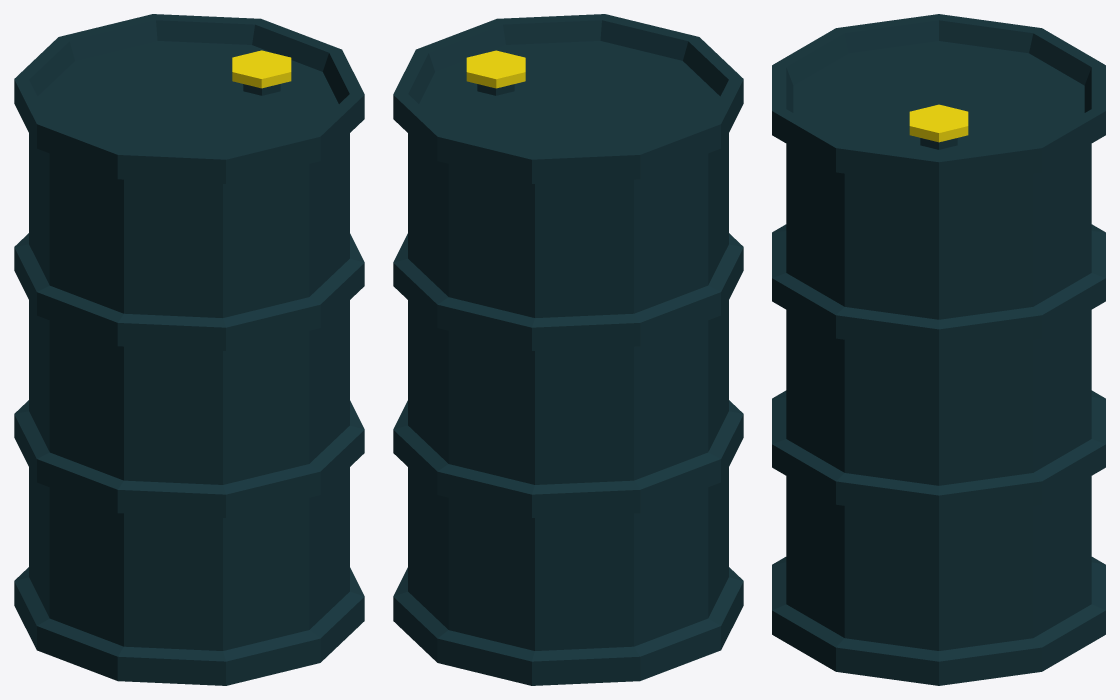
File: oil_barrel_1.FBX
3 views of the same model, side by side, from view 1: azimuth 30°, elevation 25°; view 2: azimuth 150°, elevation 25°; view 3: azimuth 270°, elevation 25° (orthographic).
Parts seen in each view (by area): view 1: oil_barrel_1; view 2: oil_barrel_1; view 3: oil_barrel_1.
Boxes of the visible parts, left/top/right/bottom form: oil_barrel_1: left=14, top=14, right=364, bottom=685; oil_barrel_1: left=393, top=14, right=743, bottom=685; oil_barrel_1: left=772, top=14, right=1105, bottom=685.
Bounding box in the file's own units: 0.7365 × 1.22 × 0.7005.
Materials: 1 (1 with a texture image).
